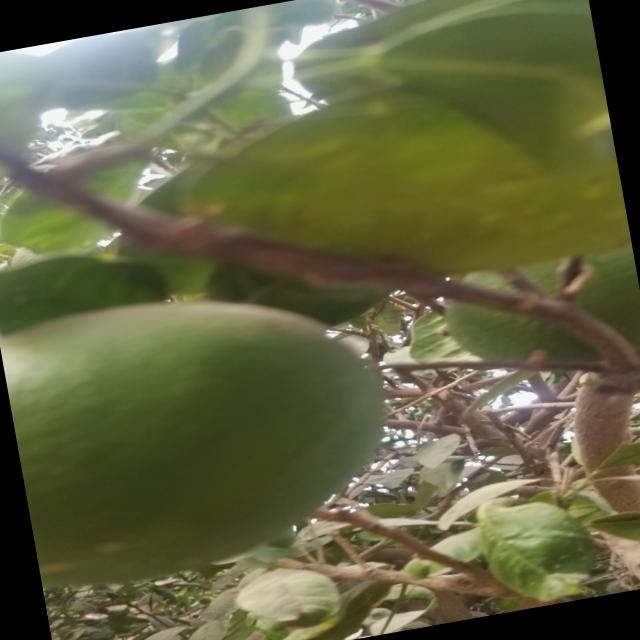agrume: (0, 268, 417, 584)
